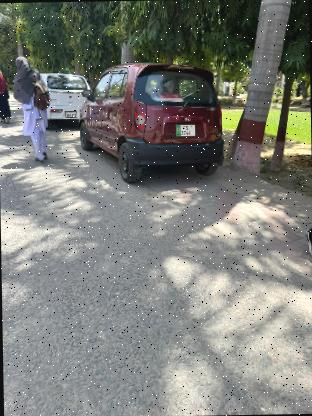car: (76, 59, 224, 184)
tree: (229, 0, 294, 183)
